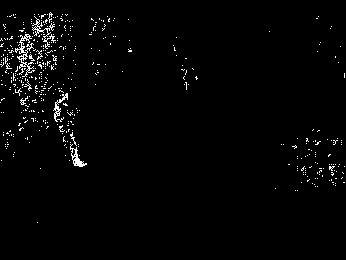person: (52, 92, 88, 167)
